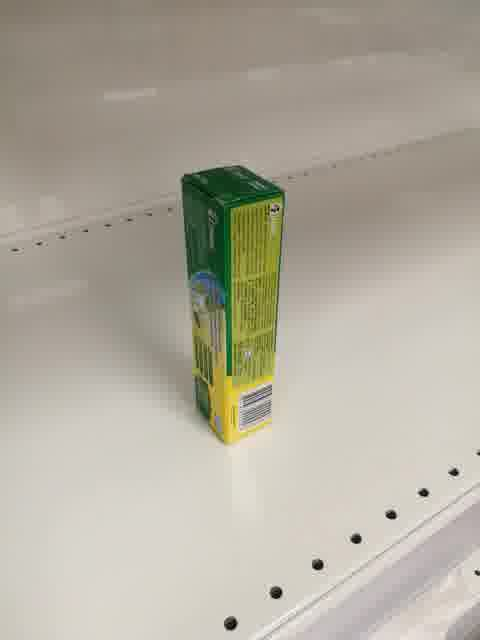toothpaste: (181, 165, 287, 446)
